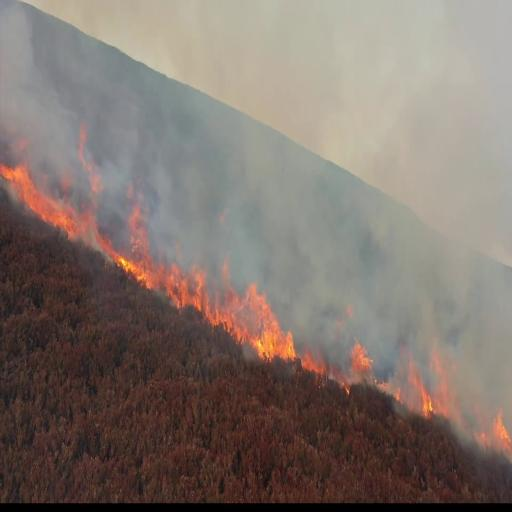fire: (124, 175, 202, 317), (223, 253, 296, 365), (0, 157, 82, 245)
smoke: (374, 93, 512, 339), (0, 0, 76, 150)
